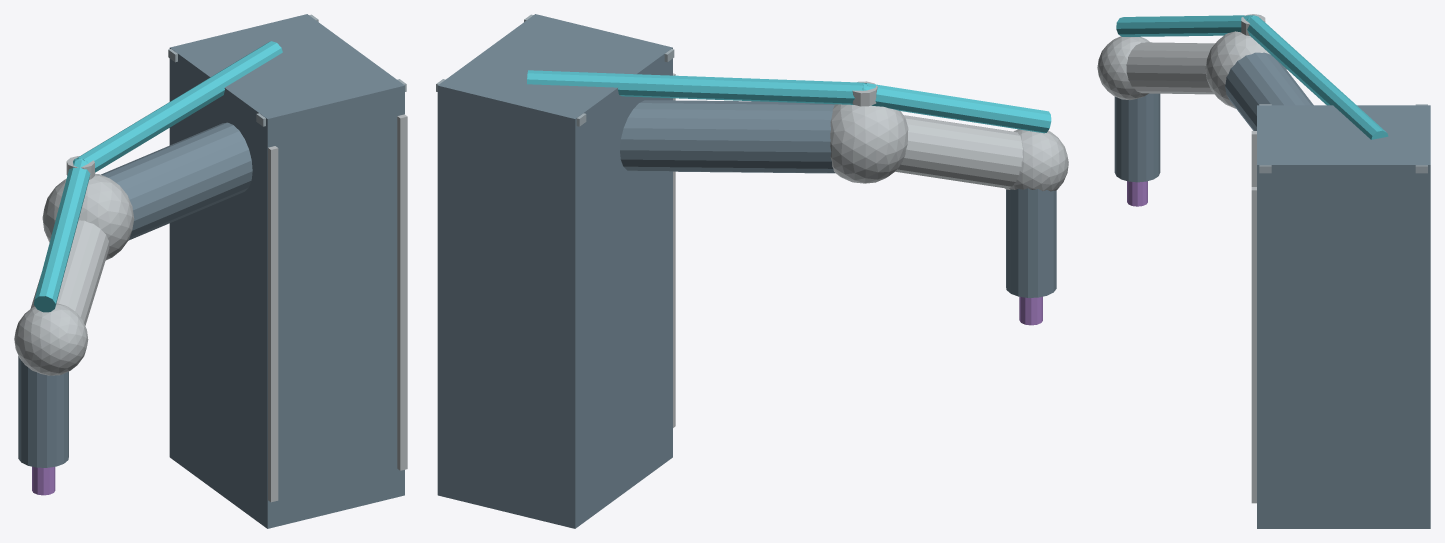
Rendered from 45_L74_DeveloperDispensingNozzle.glb.
The picture shows the model from 3 angles, left to right: view 1: azimuth 30°, elevation 25°; view 2: azimuth 150°, elevation 25°; view 3: azimuth 270°, elevation 25°; orthographic projection. The views are drawn at different scales.
Visible parts, largest first — view 1: DeveloperDispensingNozzle_Node_0000, DeveloperDispensingNozzle_Node_0007, DeveloperDispensingNozzle_Node_0013, DeveloperDispensingNozzle_Node_0015, DeveloperDispensingNozzle_Node_0012, DeveloperDispensingNozzle_Node_0005, DeveloperDispensingNozzle_Node_0006, DeveloperDispensingNozzle_Node_0009, DeveloperDispensingNozzle_Node_0016, DeveloperDispensingNozzle_Node_0010, DeveloperDispensingNozzle_Node_0014; view 2: DeveloperDispensingNozzle_Node_0000, DeveloperDispensingNozzle_Node_0007, DeveloperDispensingNozzle_Node_0015, DeveloperDispensingNozzle_Node_0010, DeveloperDispensingNozzle_Node_0013, DeveloperDispensingNozzle_Node_0009, DeveloperDispensingNozzle_Node_0016, DeveloperDispensingNozzle_Node_0012, DeveloperDispensingNozzle_Node_0005; view 3: DeveloperDispensingNozzle_Node_0000, DeveloperDispensingNozzle_Node_0010, DeveloperDispensingNozzle_Node_0013, DeveloperDispensingNozzle_Node_0007, DeveloperDispensingNozzle_Node_0015, DeveloperDispensingNozzle_Node_0016, DeveloperDispensingNozzle_Node_0009, DeveloperDispensingNozzle_Node_0006, DeveloperDispensingNozzle_Node_0012, DeveloperDispensingNozzle_Node_0014.
Boxes of the visible parts, x1,y1,x2,y2 form: DeveloperDispensingNozzle_Node_0000: [169, 14, 404, 528]; DeveloperDispensingNozzle_Node_0007: [101, 122, 252, 240]; DeveloperDispensingNozzle_Node_0013: [18, 356, 68, 467]; DeveloperDispensingNozzle_Node_0015: [76, 41, 282, 172]; DeveloperDispensingNozzle_Node_0012: [14, 303, 88, 375]; DeveloperDispensingNozzle_Node_0005: [268, 146, 278, 502]; DeveloperDispensingNozzle_Node_0006: [397, 114, 407, 470]; DeveloperDispensingNozzle_Node_0009: [42, 173, 134, 260]; DeveloperDispensingNozzle_Node_0016: [33, 160, 90, 312]; DeveloperDispensingNozzle_Node_0010: [30, 220, 109, 325]; DeveloperDispensingNozzle_Node_0014: [32, 466, 55, 495]; DeveloperDispensingNozzle_Node_0000: [437, 14, 672, 528]; DeveloperDispensingNozzle_Node_0007: [620, 100, 835, 173]; DeveloperDispensingNozzle_Node_0015: [527, 70, 863, 104]; DeveloperDispensingNozzle_Node_0010: [895, 115, 1022, 188]; DeveloperDispensingNozzle_Node_0013: [1006, 188, 1056, 297]; DeveloperDispensingNozzle_Node_0009: [830, 104, 908, 183]; DeveloperDispensingNozzle_Node_0016: [865, 83, 1051, 133]; DeveloperDispensingNozzle_Node_0012: [1005, 129, 1068, 191]; DeveloperDispensingNozzle_Node_0005: [673, 73, 675, 427]; DeveloperDispensingNozzle_Node_0000: [1257, 105, 1430, 528]; DeveloperDispensingNozzle_Node_0010: [1126, 42, 1214, 94]; DeveloperDispensingNozzle_Node_0013: [1114, 93, 1160, 182]; DeveloperDispensingNozzle_Node_0007: [1225, 52, 1313, 130]; DeveloperDispensingNozzle_Node_0015: [1247, 16, 1388, 139]; DeveloperDispensingNozzle_Node_0016: [1116, 15, 1251, 36]; DeveloperDispensingNozzle_Node_0009: [1205, 31, 1286, 108]; DeveloperDispensingNozzle_Node_0006: [1251, 187, 1256, 503]; DeveloperDispensingNozzle_Node_0012: [1097, 36, 1149, 99]; DeveloperDispensingNozzle_Node_0014: [1127, 181, 1147, 206].
Bounding box in the file's own units: 1.3 × 1.13 × 0.9209.
